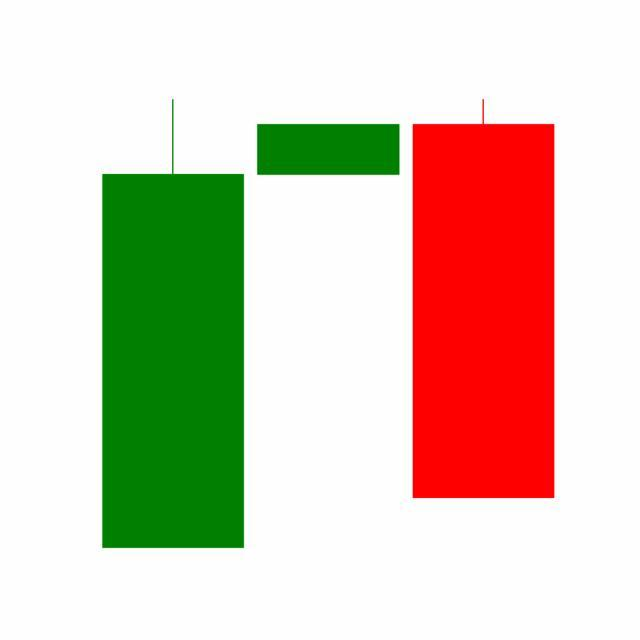Marubozu: (406, 96, 562, 503)
